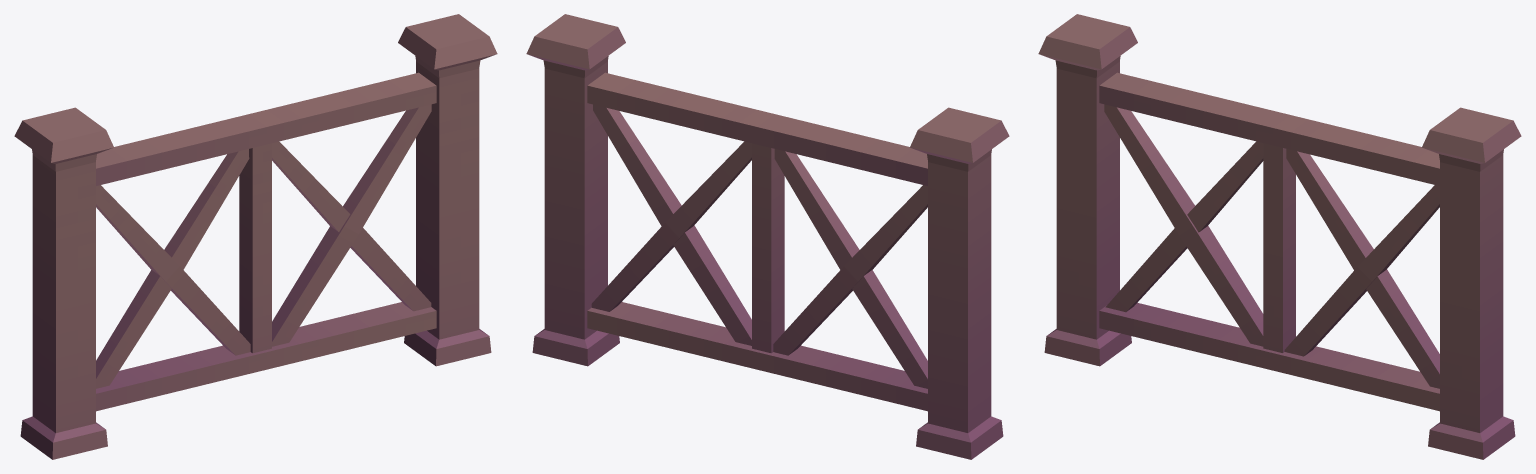
File: fence_cross.gltf
3 renders of one model, left to right at view 1: azimuth 30°, elevation 25°; view 2: azimuth 150°, elevation 25°; view 3: azimuth 330°, elevation 25°, orthographic.
Visible parts, largest first — view 1: Object_43; view 2: Object_43; view 3: Object_43.
Boxes of the visible parts, x1=… form: Object_43: x1=14, y1=14, x2=497, y2=459; Object_43: x1=526, y1=14, x2=1009, y2=459; Object_43: x1=1038, y1=14, x2=1521, y2=459.
Size of the model in its own units: 4.43 by 3 by 0.6277.
Materials: 1 (1 with a texture image).
